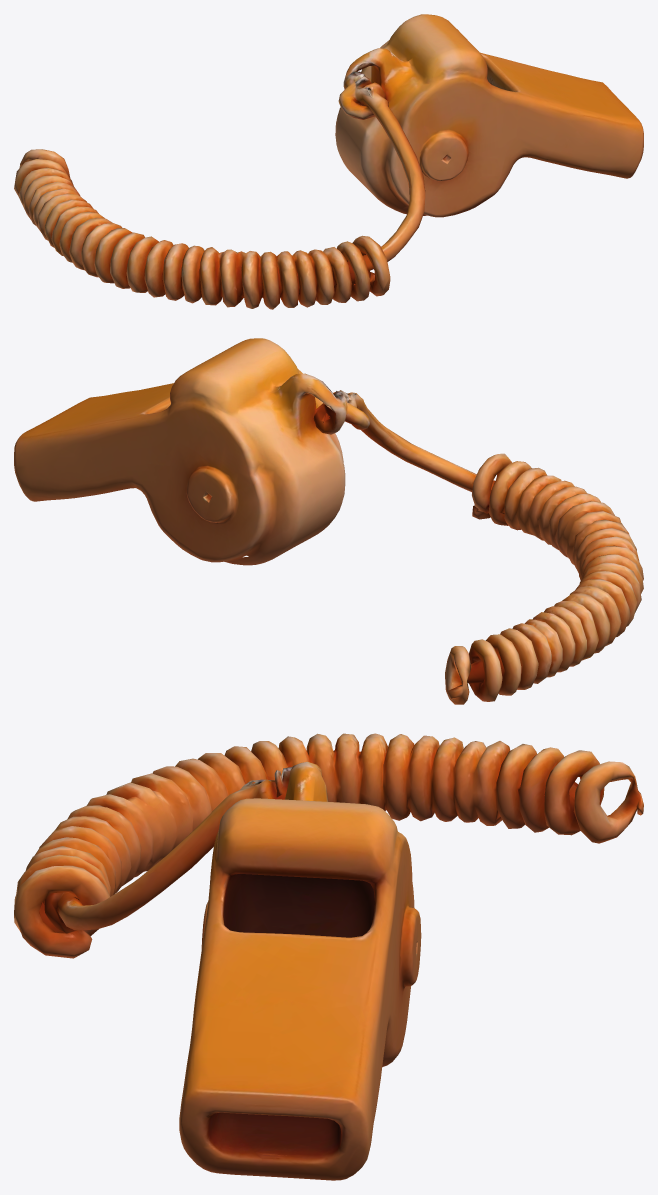
The model's file is kit-apito.glb.
3 views of the same model, one above another, from view 1: azimuth 30°, elevation 25°; view 2: azimuth 150°, elevation 25°; view 3: azimuth 270°, elevation 25° (orthographic). The views are drawn at different scales.
Visible parts, largest first — view 1: tripo_node_f54589ea-9086-4e14-bf47-408273809865; view 2: tripo_node_f54589ea-9086-4e14-bf47-408273809865; view 3: tripo_node_f54589ea-9086-4e14-bf47-408273809865.
Part boxes in pixels (bbox=[...]): tripo_node_f54589ea-9086-4e14-bf47-408273809865: bbox=[14, 14, 643, 309]; tripo_node_f54589ea-9086-4e14-bf47-408273809865: bbox=[14, 338, 643, 704]; tripo_node_f54589ea-9086-4e14-bf47-408273809865: bbox=[14, 733, 643, 1180].
Bounding box in the file's own units: 0.9797 × 0.2925 × 0.6526.
Materials: 1 (1 with a texture image).
